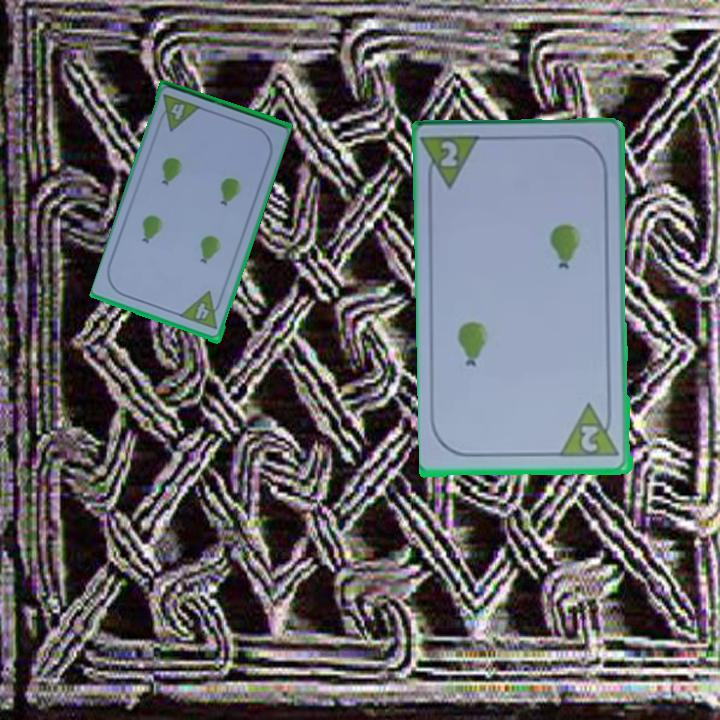2p: (577, 422, 601, 455), (437, 137, 461, 170)
4p: (177, 289, 226, 333), (154, 91, 203, 135)
